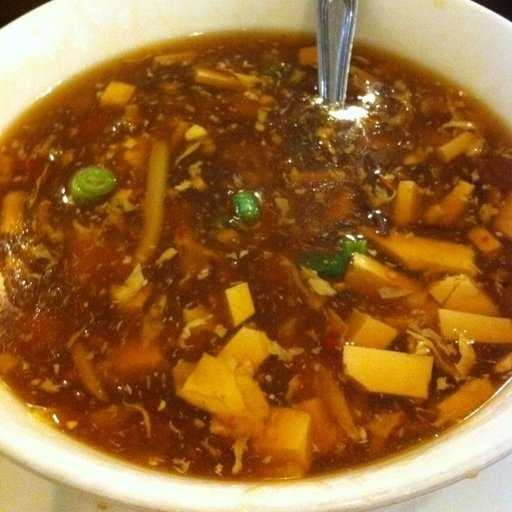soup: (4, 35, 497, 489)
